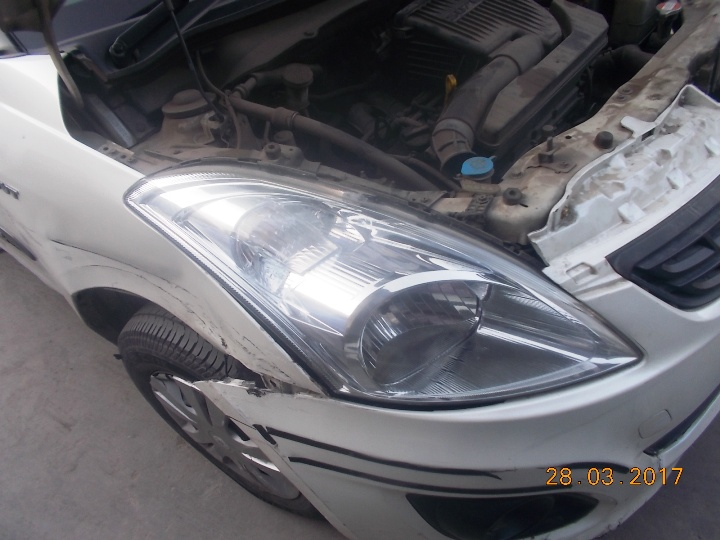Dislocation: (161, 338, 299, 415)
